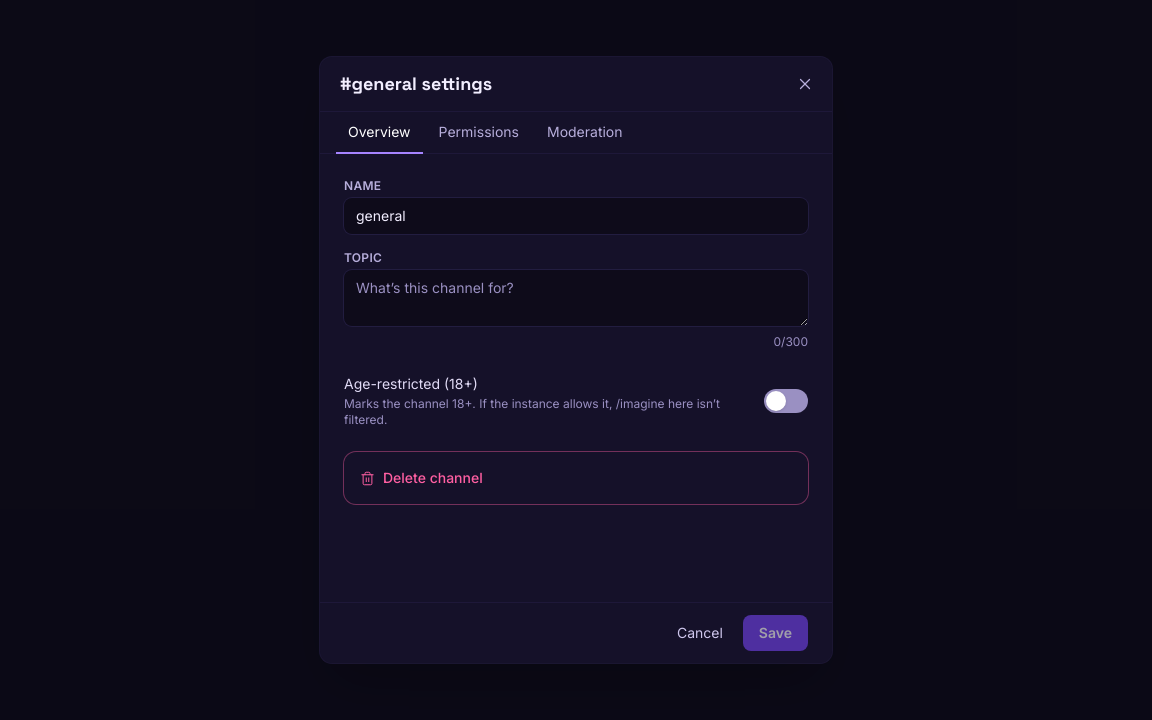
Test case: a text channel has Overview, Permissions and Moderation tabs; Overview first
The image size is (1152, 720).
Expected: the text box labelled "Topic" is shown, [344,270,808,326]
Expected: the switch labelled "Age-restricted" is shown, [344,366,808,436]
Note: Moderation: slow mode, one tab away.
Click the tab "Moderation".
click(585, 133)  # box [535,112,634,154]
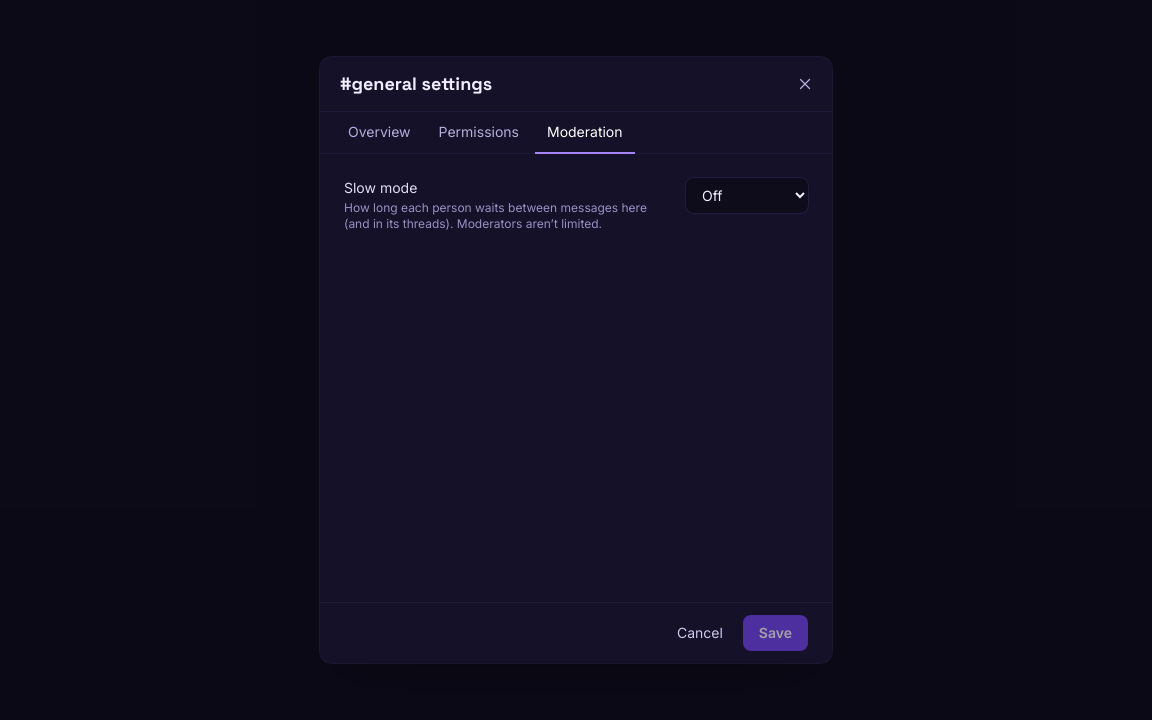
Now the dropdown labelled "Slow mode" is shown, box [686,178,808,213]
Note: Permissions: the role table.
Click the tab "Permissions".
click(479, 133)  # box [427,112,531,154]
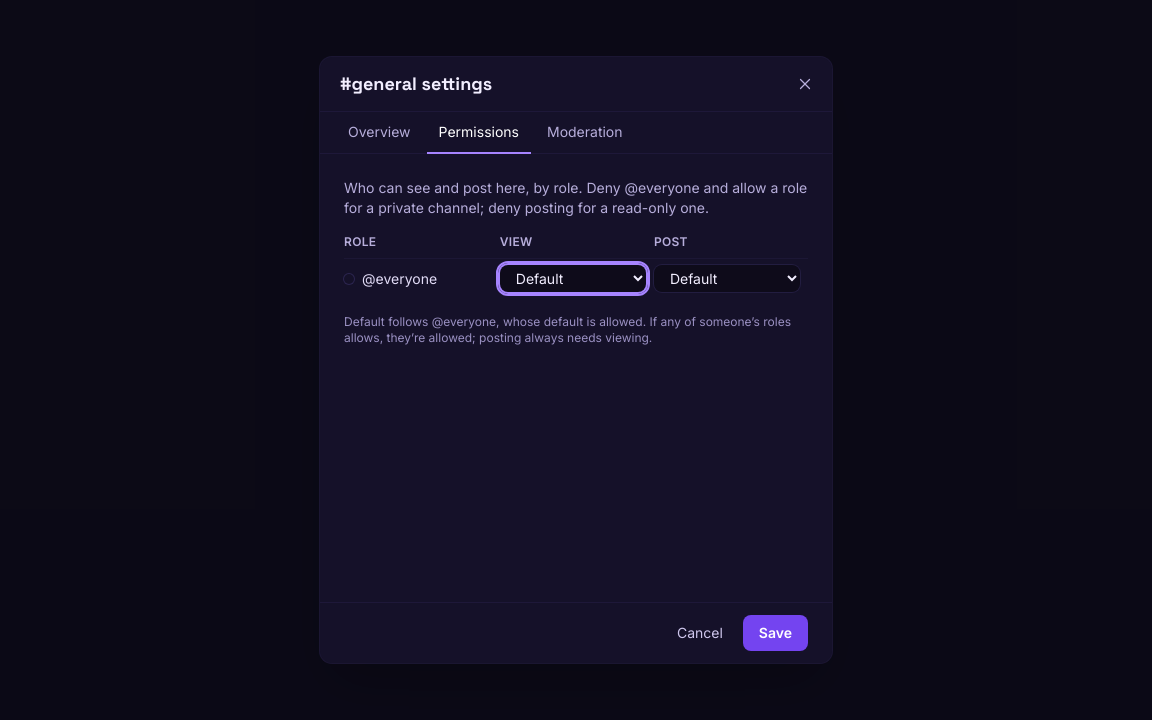
Now the dropdown named "@everyone: view" is shown, box [500,265,646,292]
